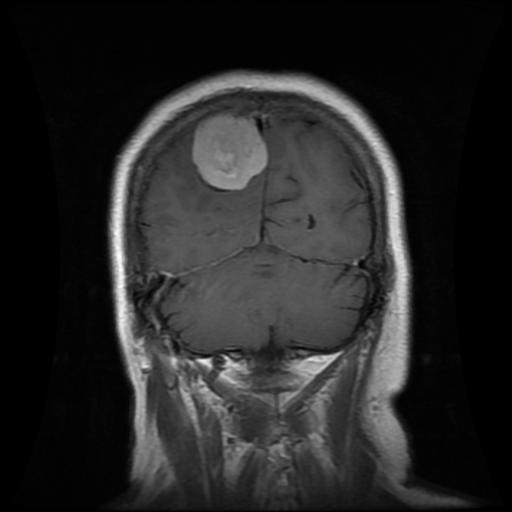Menigiomia_tumour: (192, 111, 268, 190)
